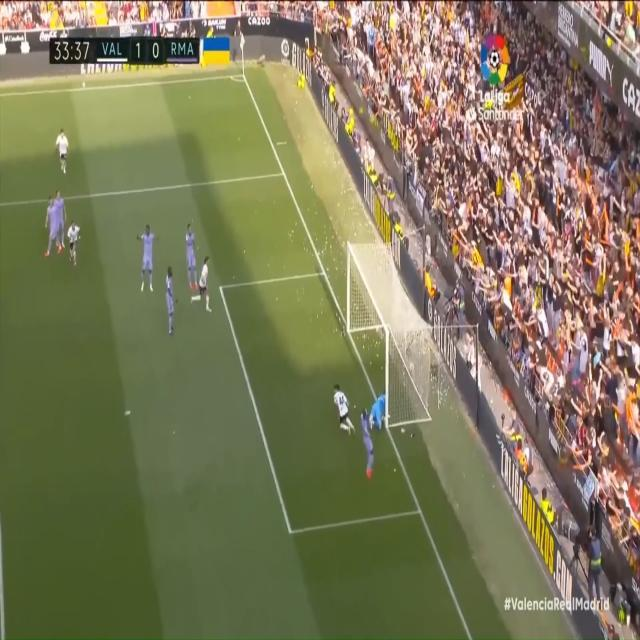ball: (405, 355, 417, 380)
goalkeeper: (365, 392, 397, 433)
player: (133, 218, 157, 300), (329, 377, 357, 447), (188, 244, 214, 315), (358, 407, 380, 488), (43, 192, 60, 269), (181, 218, 198, 293), (62, 222, 84, 276), (164, 264, 180, 337), (55, 126, 74, 184), (55, 188, 66, 248)
